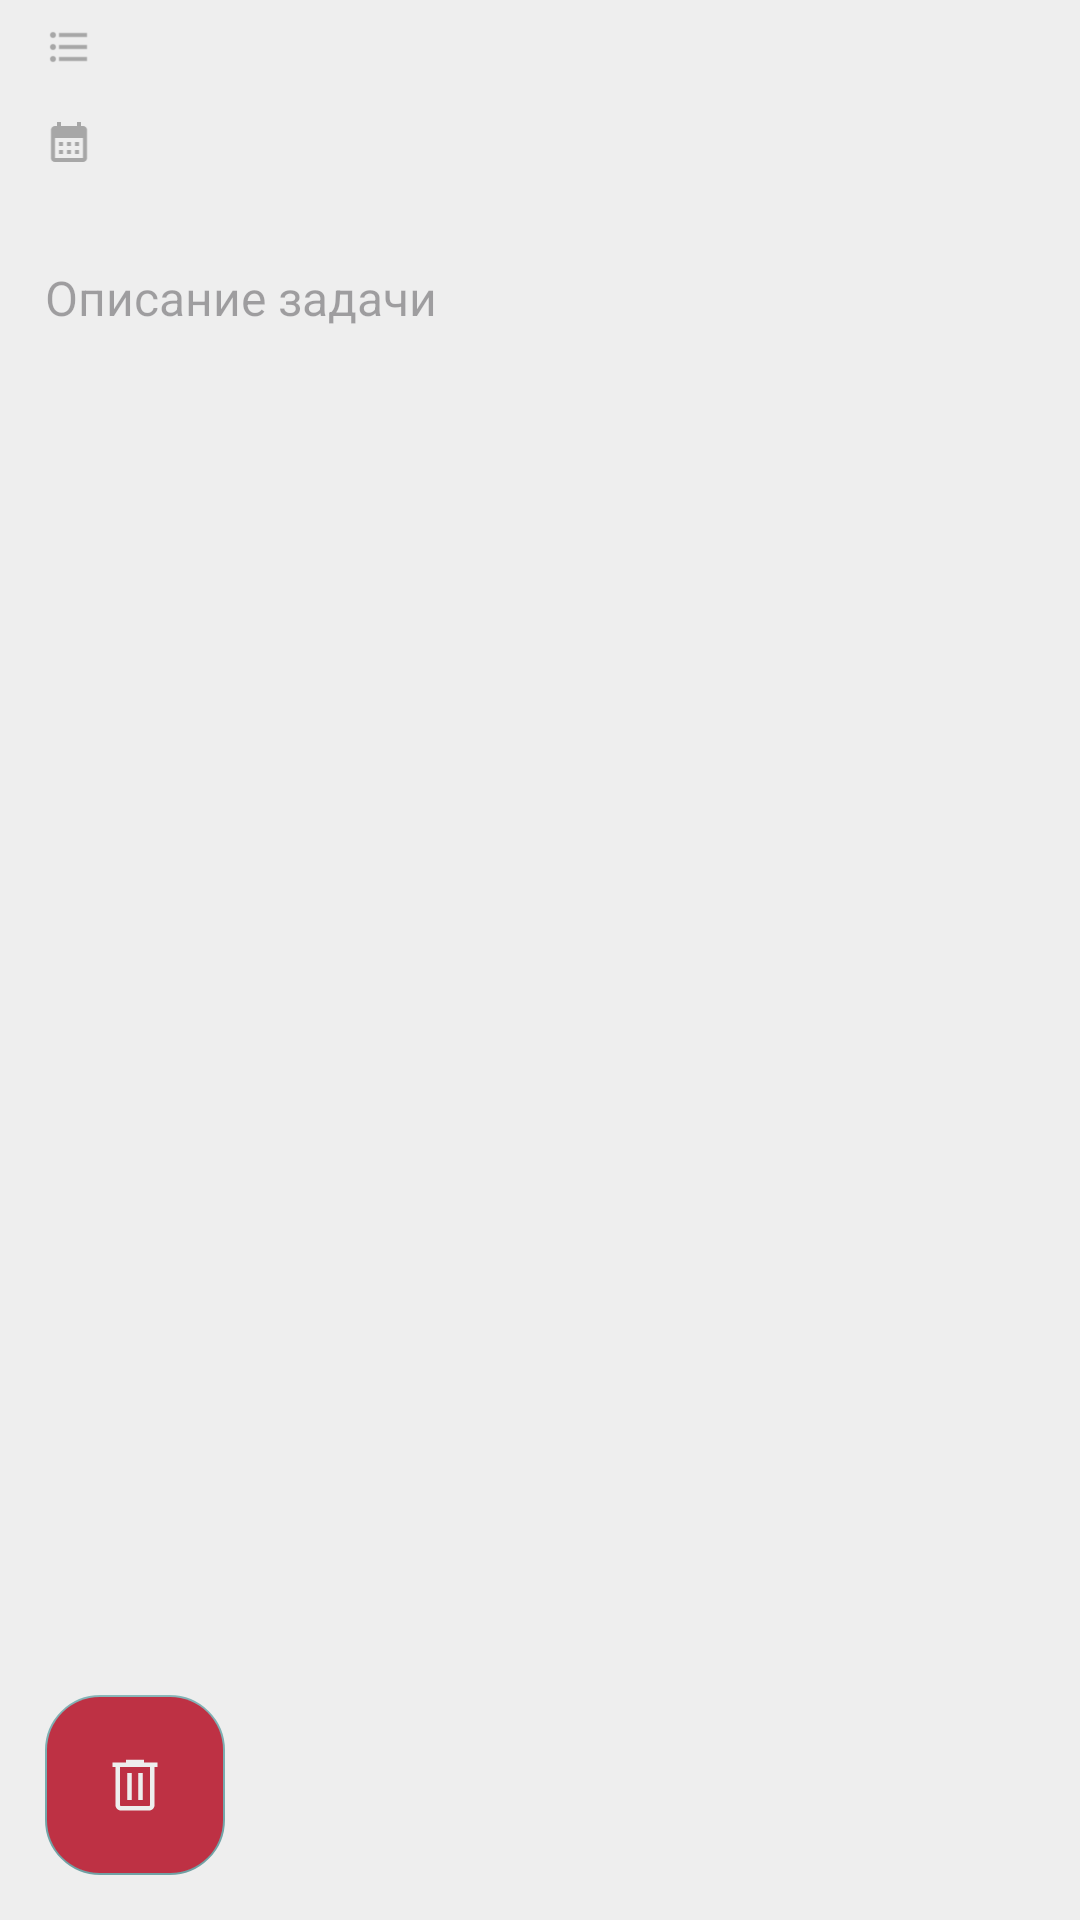

Where icons sit on this 1080px×1920px app screen, as (x1, y1, x2, y2):
delete: (45, 1695, 225, 1875)
